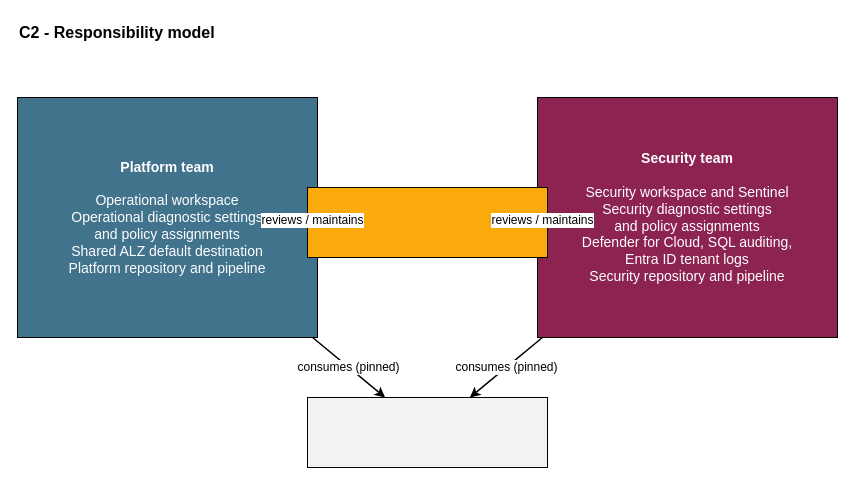
Image size: 855x485. Some labels were removed from this diagram. Each missing label, with the centre of its shape:
"Routing inventory (shared control, one owner per route)" goes at (427,222).
"Upstream ALZ Policy Library and built-in policy" goes at (427,432).
